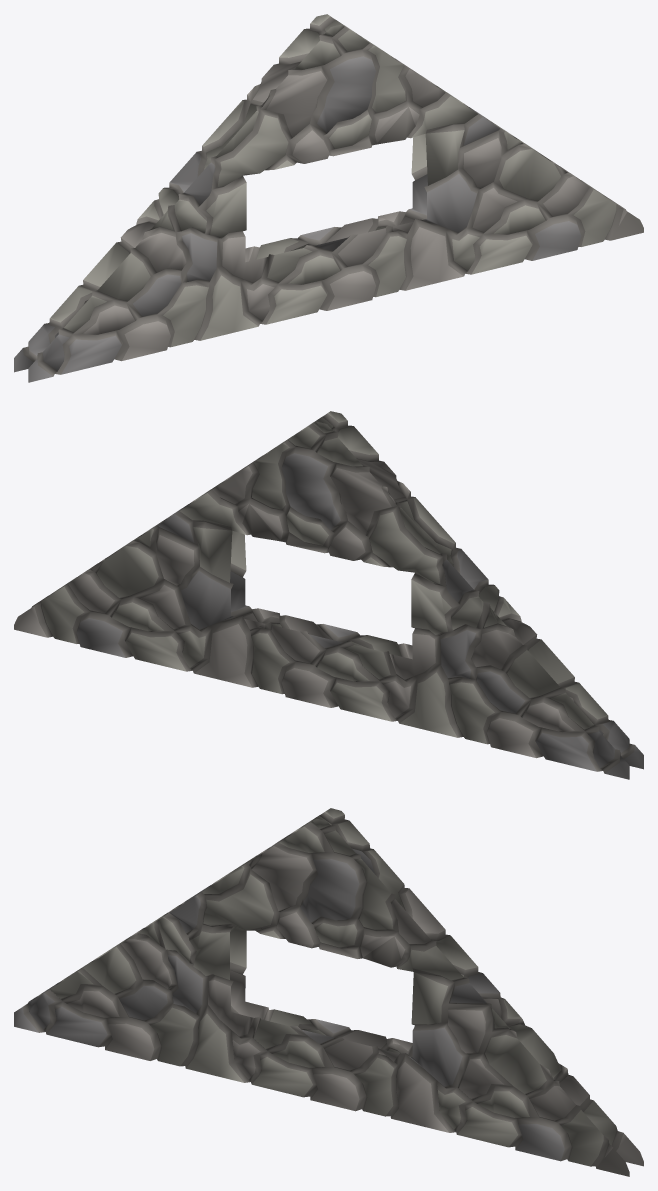
The model's file is rpgpp_ag_roof_end_01_9x4_wall_window_03b.fbx.
3 renders of one model, top to bottom at view 1: azimuth 30°, elevation 25°; view 2: azimuth 150°, elevation 25°; view 3: azimuth 330°, elevation 25°, orthographic.
Parts seen in each view (by area): view 1: rpgpp_ag_roof_end_01_9x4_wall_window_03b; view 2: rpgpp_ag_roof_end_01_9x4_wall_window_03b; view 3: rpgpp_ag_roof_end_01_9x4_wall_window_03b.
Part boxes in pixels (<box>): rpgpp_ag_roof_end_01_9x4_wall_window_03b: <box>14,14,643,382</box>; rpgpp_ag_roof_end_01_9x4_wall_window_03b: <box>14,411,643,779</box>; rpgpp_ag_roof_end_01_9x4_wall_window_03b: <box>14,808,643,1176</box>.
Size of the model in its own units: 9 by 3.94 by 0.4267.
